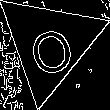O_N: (21, 12, 78, 75)
